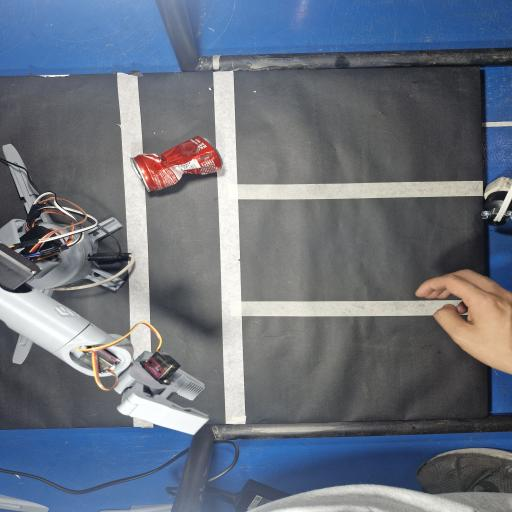lata_defectuoso: (131, 137, 222, 191)
